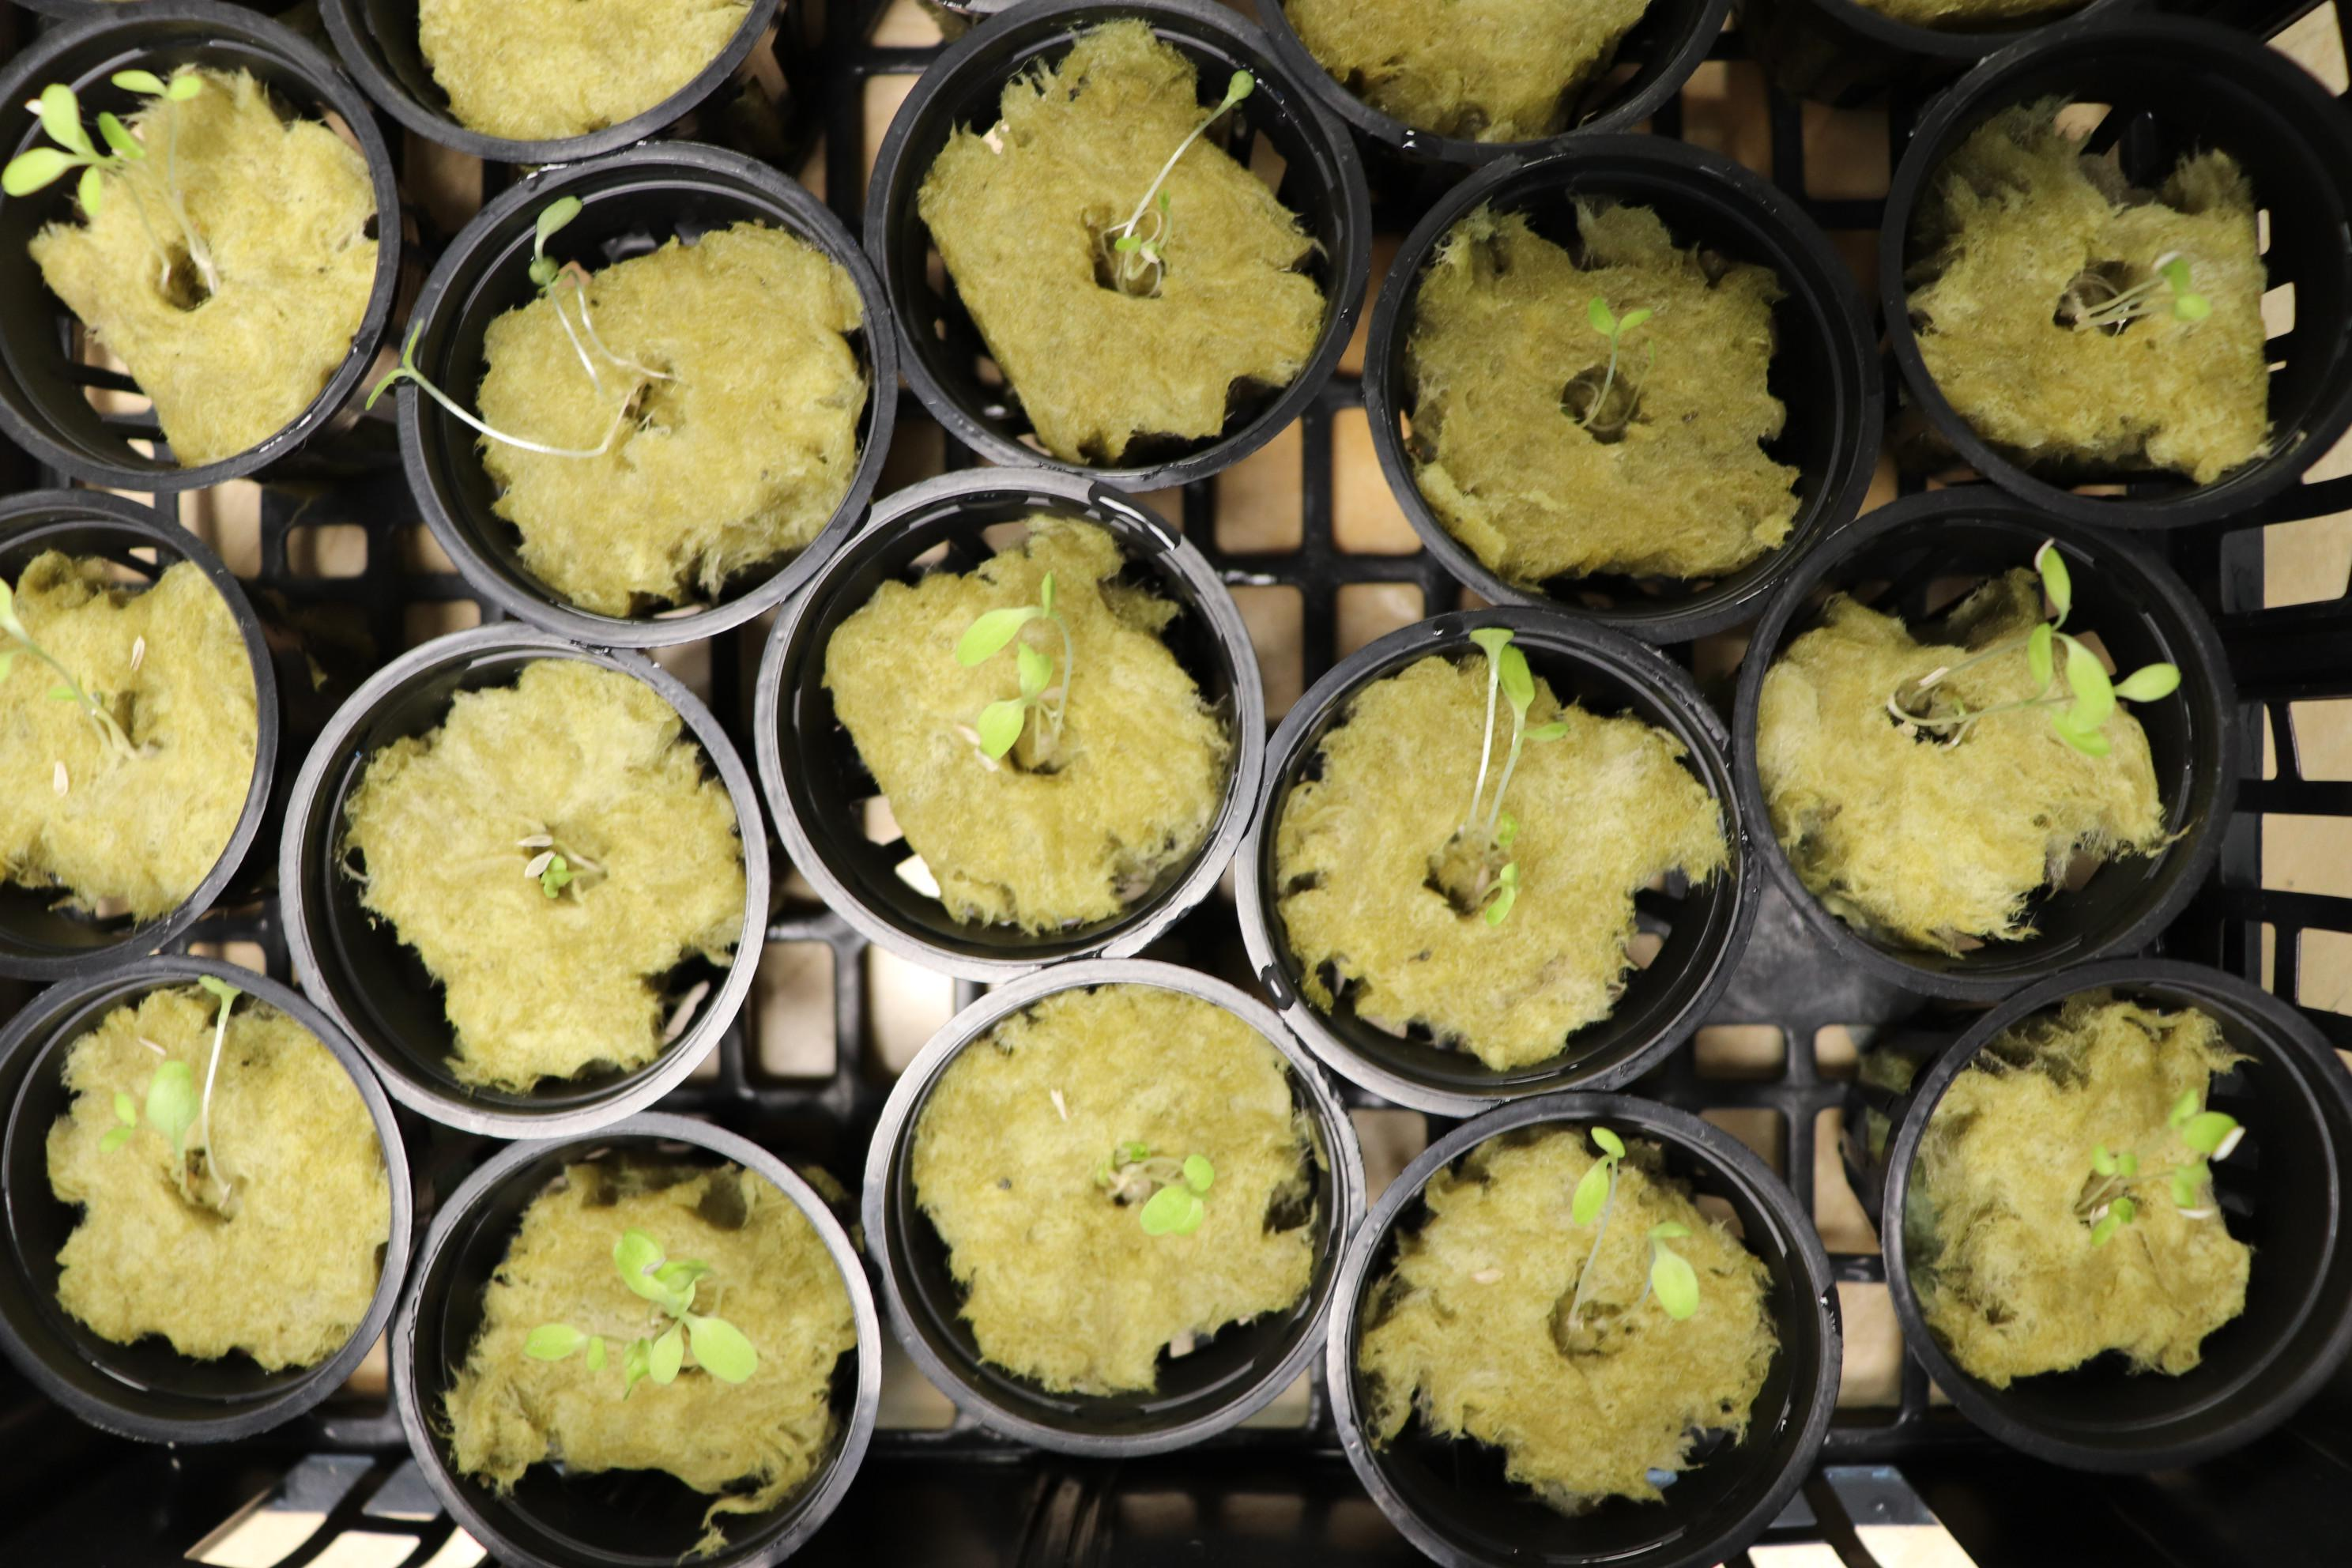GERMINATED: (919, 996, 1300, 1374), (940, 58, 1290, 427), (1297, 670, 1631, 1029), (28, 1020, 383, 1353), (381, 707, 712, 1055), (1414, 1150, 1745, 1494), (49, 73, 346, 441), (1949, 1071, 2303, 1379), (1808, 597, 2135, 906), (884, 572, 1192, 899), (1470, 252, 1801, 541), (465, 1179, 775, 1475), (497, 268, 808, 555), (1941, 175, 2263, 416), (2, 546, 219, 893)
